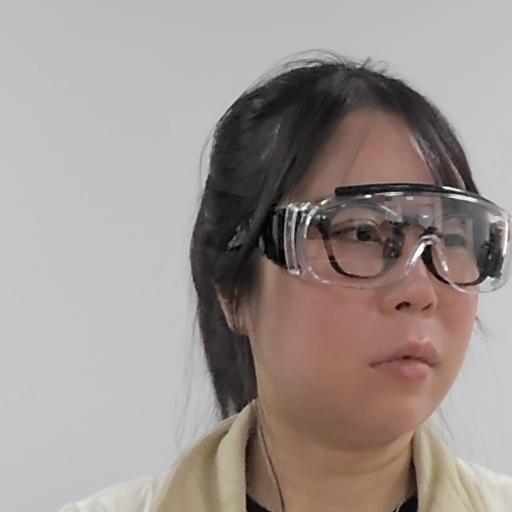glasses: (182, 57, 512, 464)
